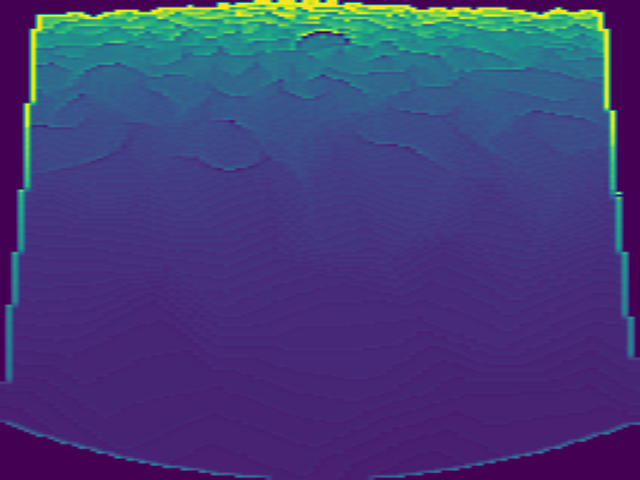car_0198: (294, 29, 352, 51)
